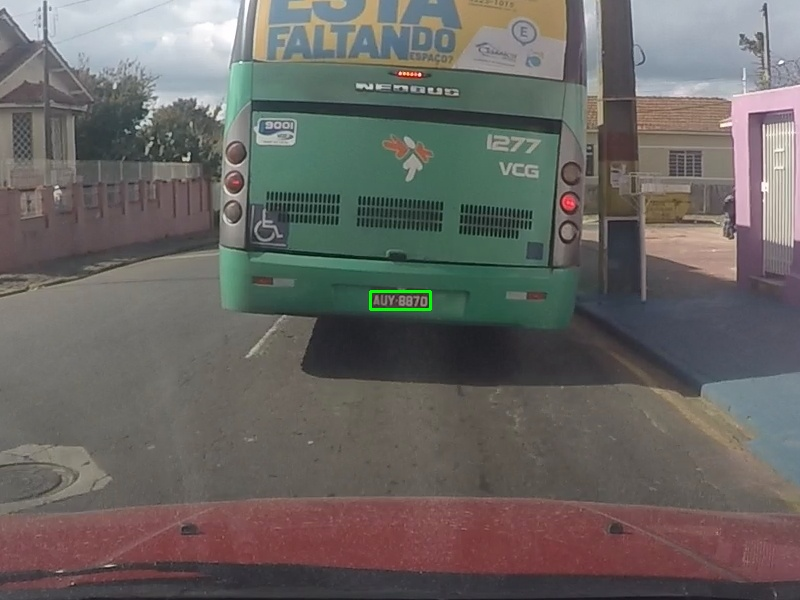placa: (370, 291, 430, 309)
